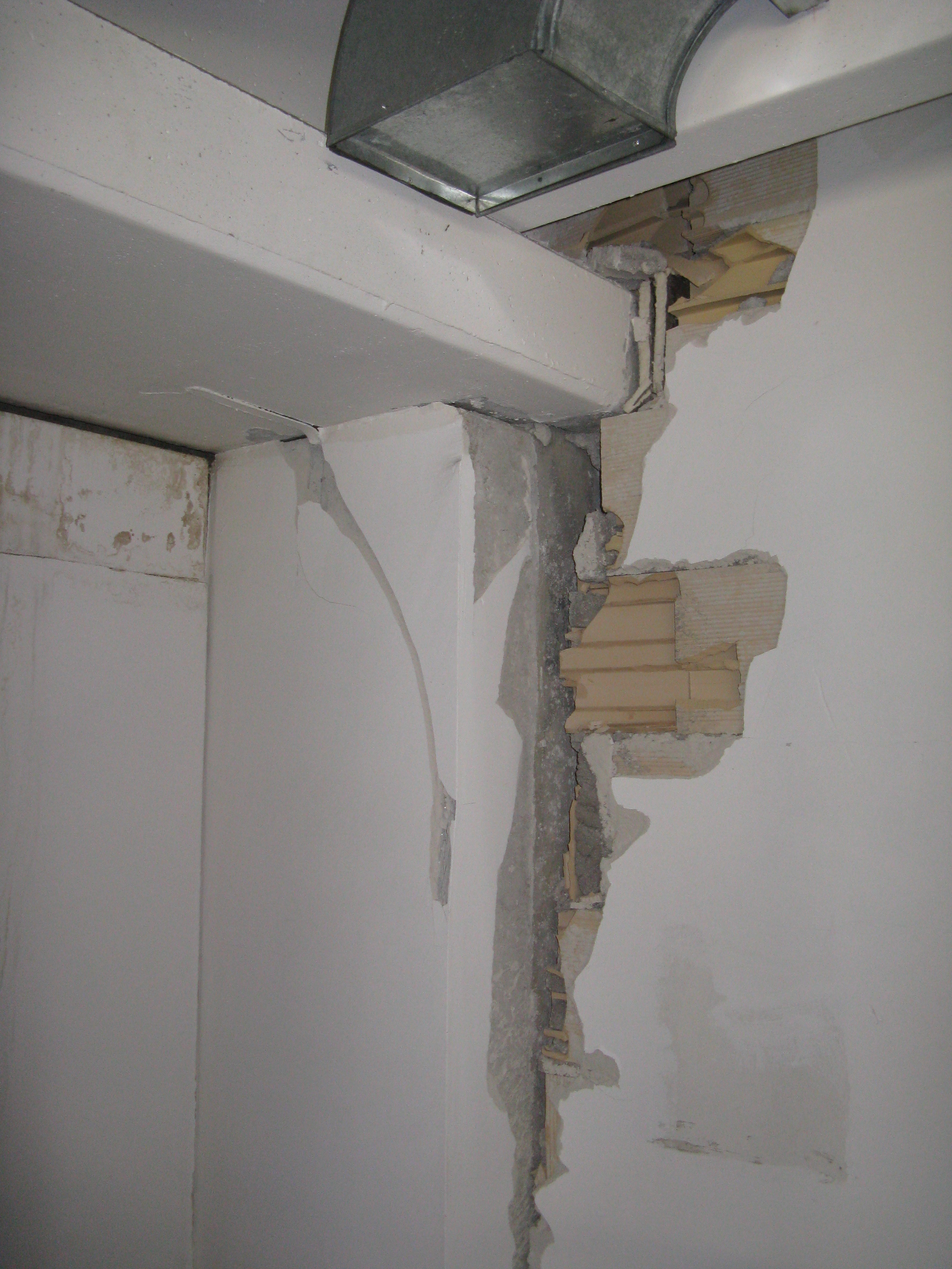Spalling: (447, 138, 821, 1267), (560, 500, 743, 743), (581, 172, 797, 333)
